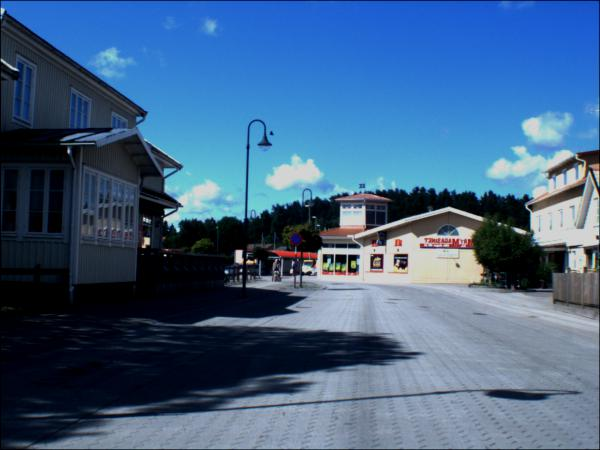NO_PARKING: (290, 234, 303, 247)
